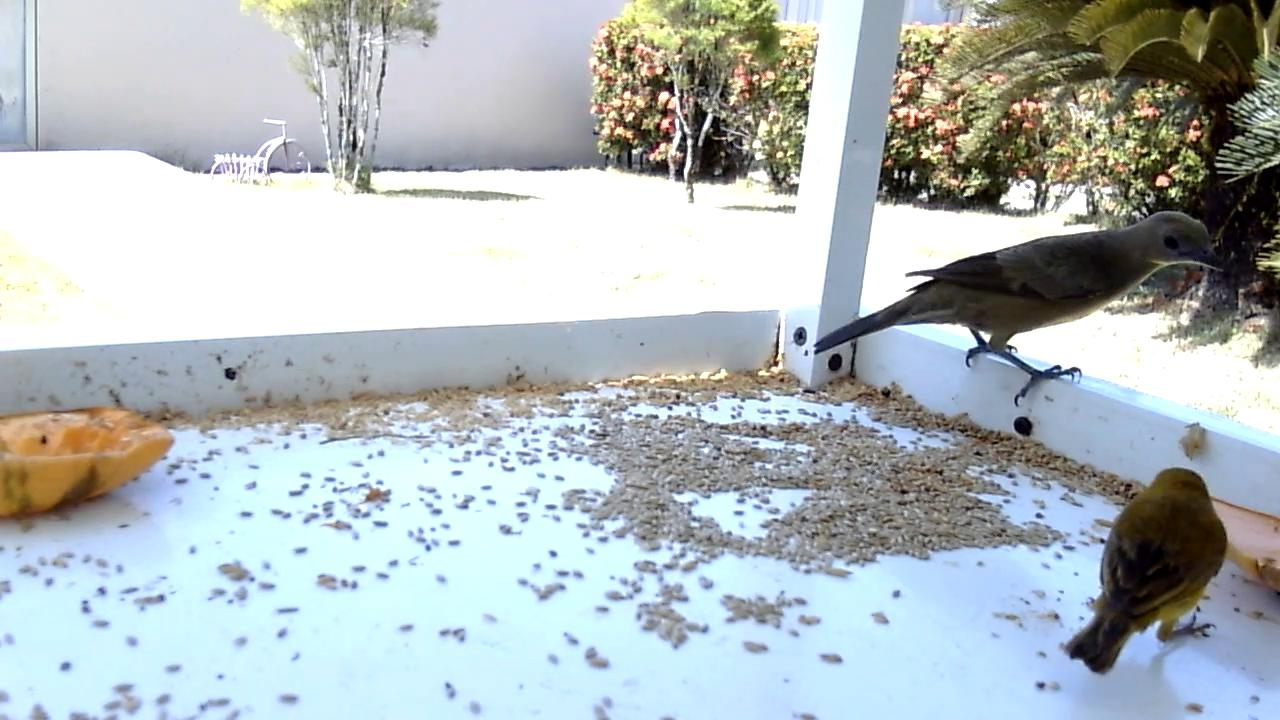canario_do_amazonas: (1067, 469, 1233, 677)
sanhaco_do_coqueiro: (813, 211, 1229, 408)
